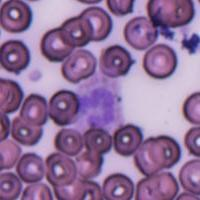N: (78, 85, 122, 128)
